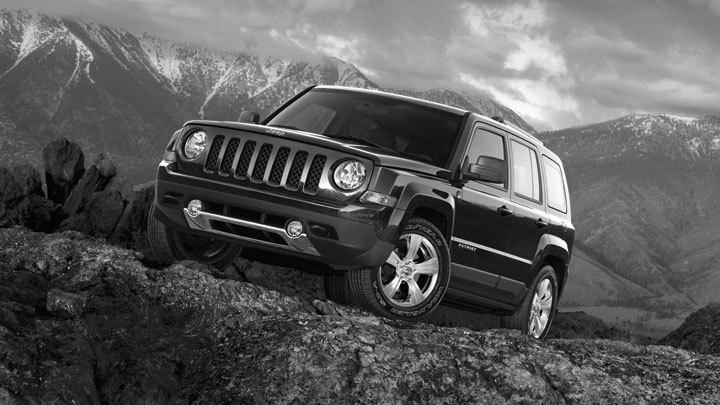car: (144, 82, 581, 344)
